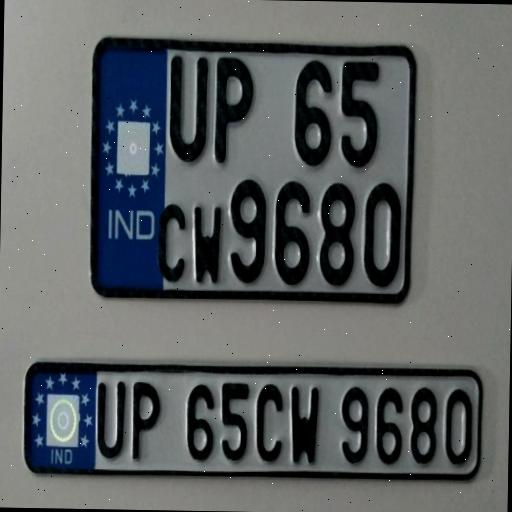number plate: (90, 43, 424, 300), (23, 358, 484, 484)
